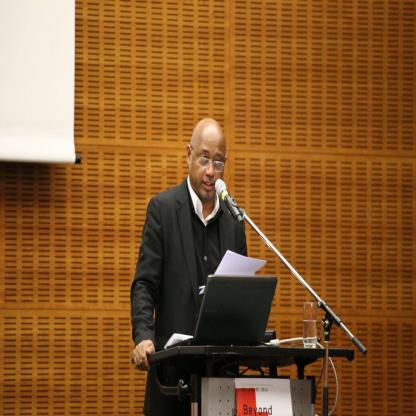board: (165, 274, 278, 348)
